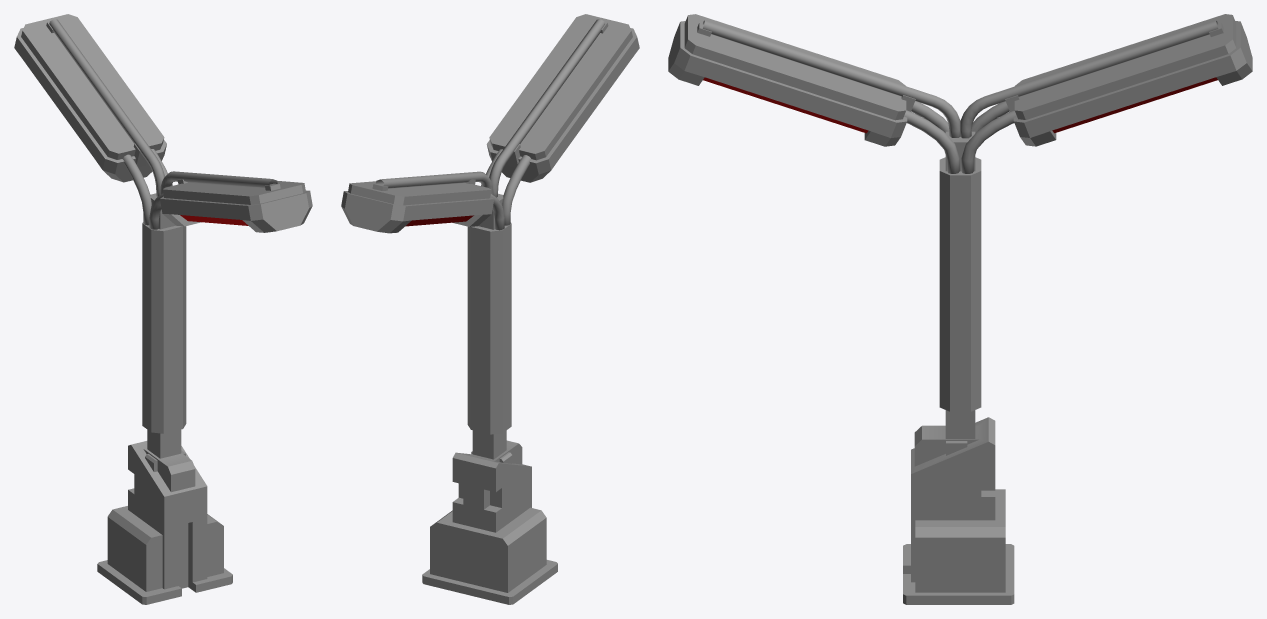
The model's file is M_prop_lamp_pole_double.FBX.
3 views of the same model, side by side, from view 1: azimuth 30°, elevation 25°; view 2: azimuth 150°, elevation 25°; view 3: azimuth 270°, elevation 25° (orthographic). The views are drawn at different scales.
Parts seen in each view (by area): view 1: M_prop_lamp_pole_double; view 2: M_prop_lamp_pole_double; view 3: M_prop_lamp_pole_double.
Part boxes in pixels (x1,y1,x2,y2): M_prop_lamp_pole_double: (14, 14, 312, 604); M_prop_lamp_pole_double: (341, 14, 639, 604); M_prop_lamp_pole_double: (668, 14, 1252, 604).
Bounding box in the file's own units: 98.99 × 473 × 499.
